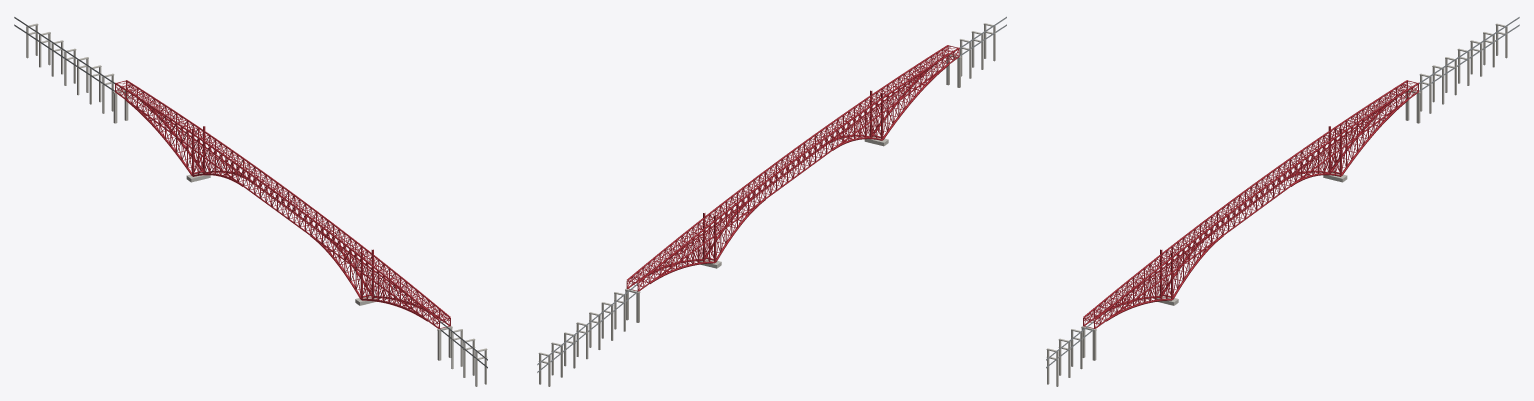
Rendered from osaka-minato-bridge.detail.glb.
3 renders of one model, left to right at view 1: azimuth 30°, elevation 25°; view 2: azimuth 150°, elevation 25°; view 3: azimuth 330°, elevation 25°, orthographic.
Visible parts, largest first — view 1: Minato Bridge; view 2: Minato Bridge; view 3: Minato Bridge.
Part boxes in pixels (x1,y1,x2,y2): Minato Bridge: (14,17,487,386); Minato Bridge: (537,16,1006,386); Minato Bridge: (1046,17,1519,386).
Size of the model in its own units: 34 by 85.21 by 1433.
